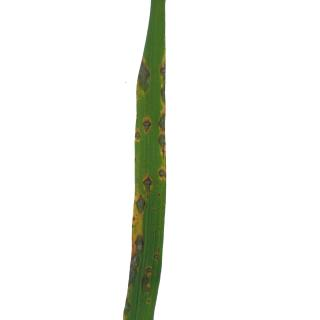Blast: (135, 60, 151, 97), (158, 60, 166, 109), (142, 266, 156, 292), (129, 252, 140, 284), (141, 116, 153, 134), (156, 164, 166, 184), (136, 194, 146, 213), (156, 133, 166, 152), (143, 176, 153, 194), (124, 296, 132, 317), (136, 234, 144, 253), (157, 111, 164, 131), (135, 128, 142, 145), (154, 254, 160, 261)
